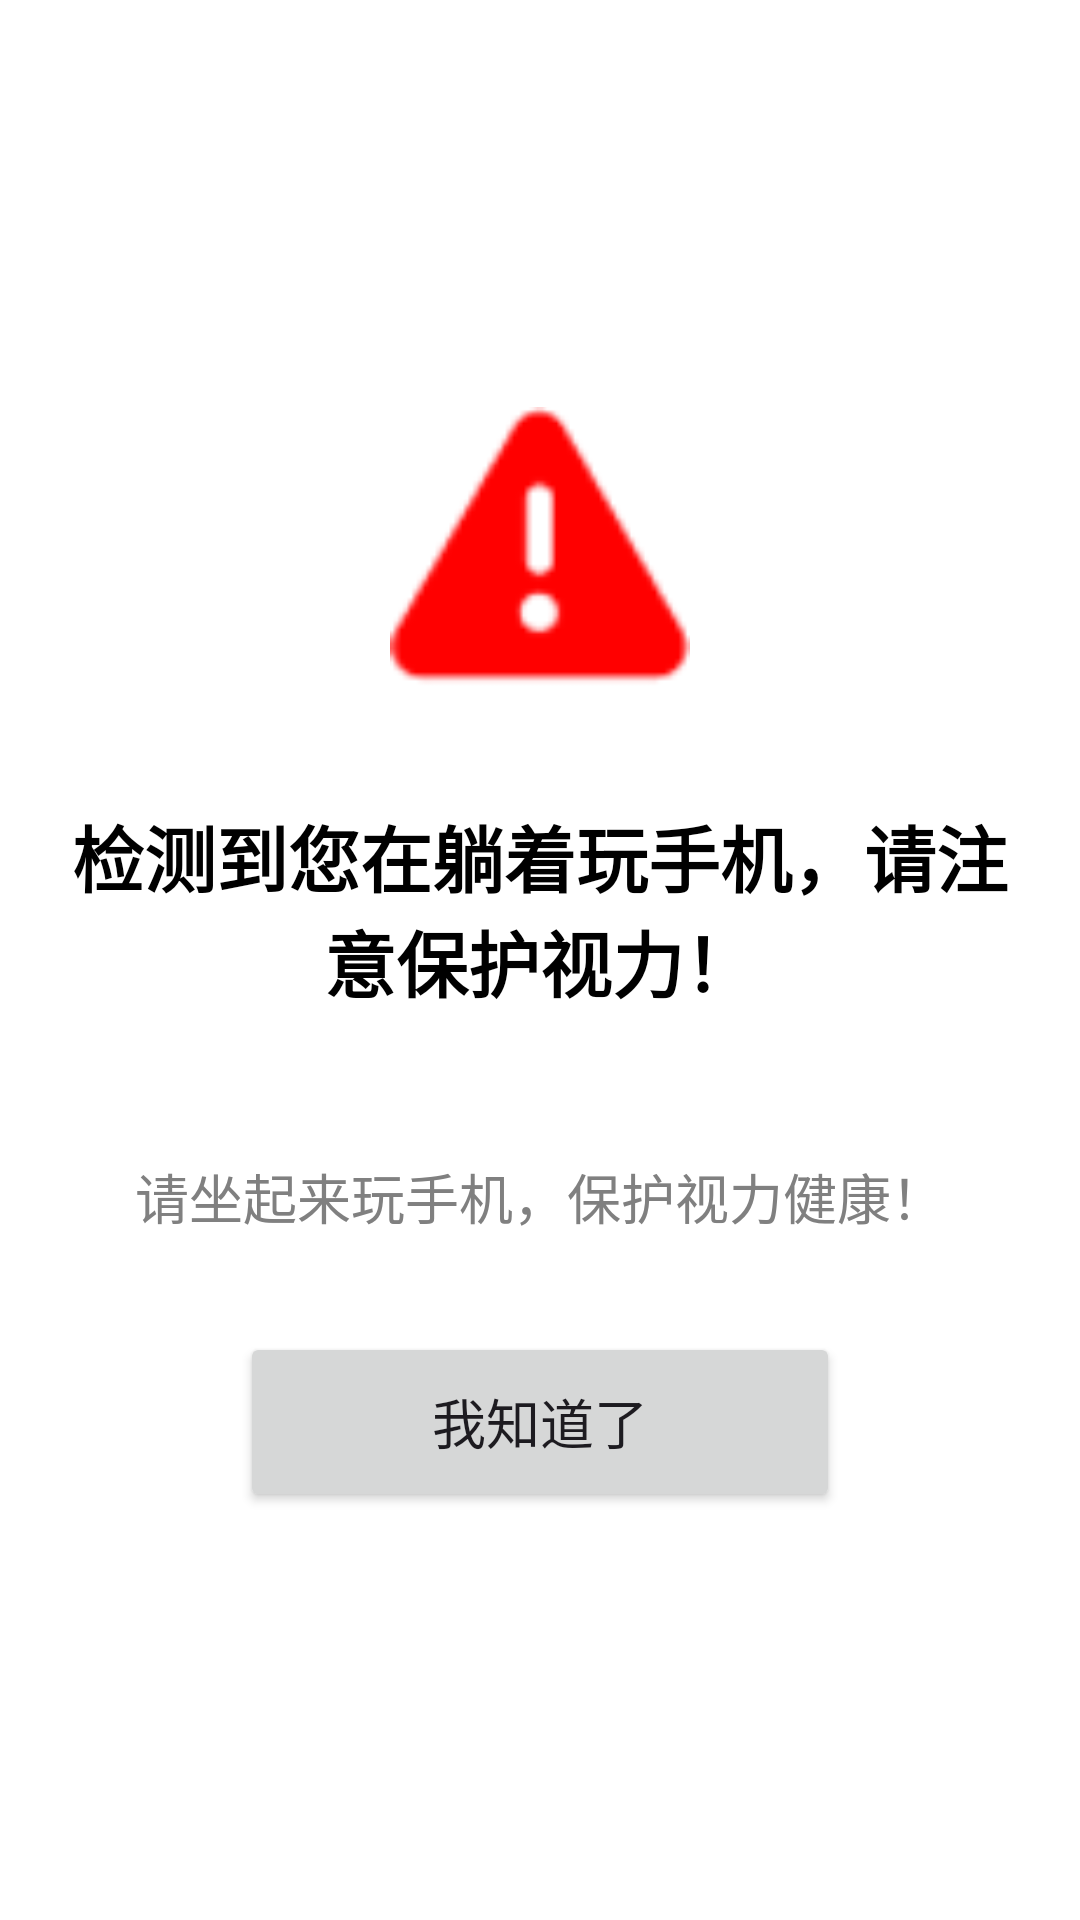

Where icons sit on this 1080w x 1920h app screen, as (x1, y1, x2, y2):
警告图标: (390, 407, 690, 681)
